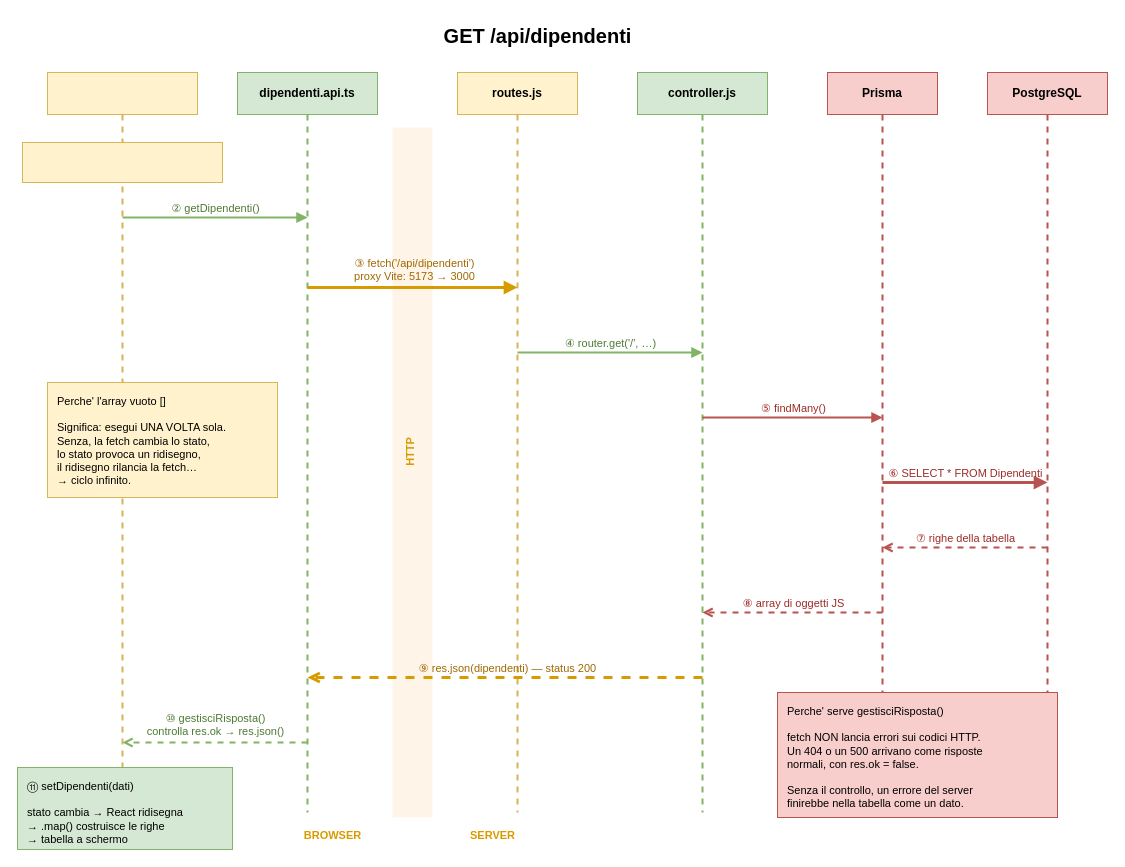
The diagram is 1125 pixels wide and 867 high, and some of its shapes have lost their labels. Here are the shapes that lost their labels. From the top down, the box of each, then its label:
(46, 72, 198, 114): DipendentiPage.tsx
(22, 142, 222, 182): ① useEffect(() => {…}, []) parte una sola volta
